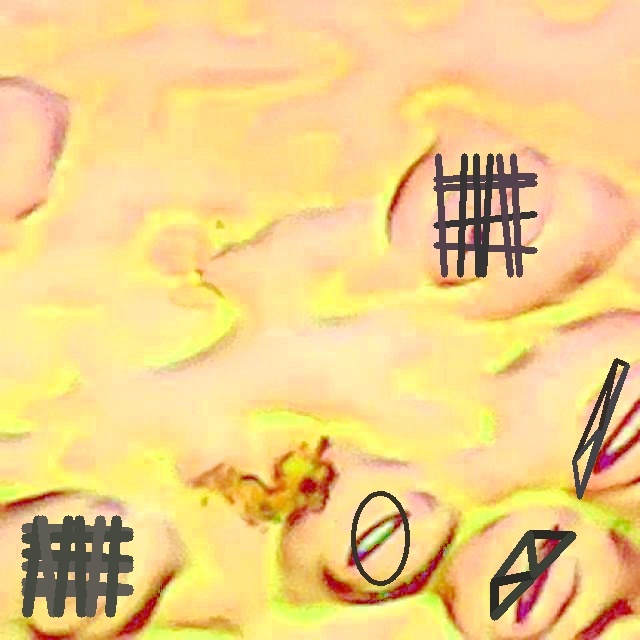open: (434, 154, 537, 277), (21, 515, 132, 616), (572, 358, 629, 499), (491, 530, 576, 619), (350, 490, 409, 586)
